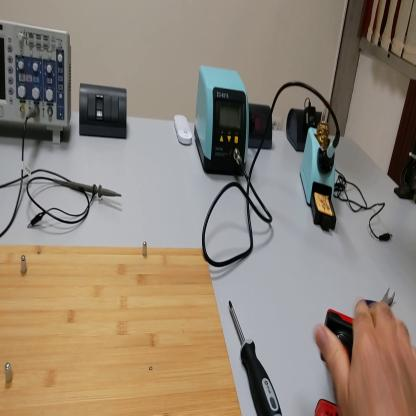electric screwdriver: (315, 308, 365, 416)
hand: (313, 298, 416, 416)
oscilloscope: (1, 21, 73, 146)
oscilloscope probe tip: (54, 177, 123, 202)
pliers: (365, 282, 399, 306)
screwdriver-: (230, 302, 282, 415)
socket: (284, 108, 325, 152), (249, 102, 275, 149)
welder base: (300, 101, 339, 233)
welder probe tip: (323, 127, 342, 171)
welder station: (193, 62, 250, 182)
working area: (2, 243, 243, 416)
